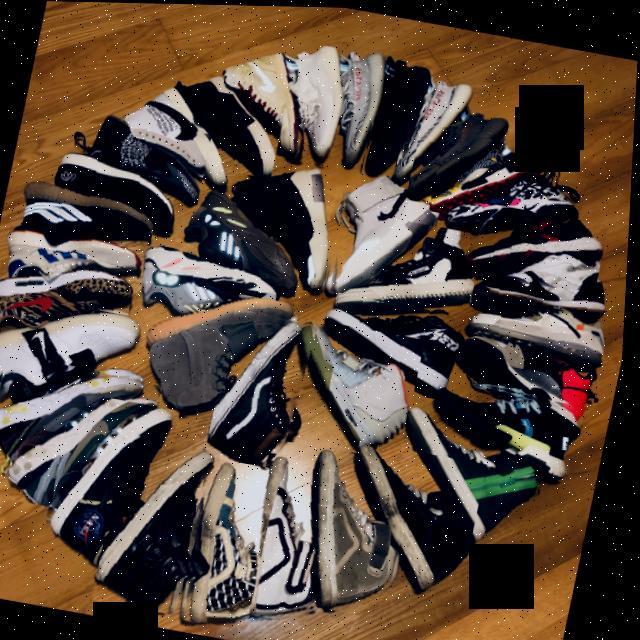shoe: (0, 351, 169, 522), (41, 391, 185, 589), (387, 402, 561, 559), (135, 278, 304, 433), (336, 439, 493, 599), (289, 445, 426, 619), (98, 433, 226, 617), (283, 317, 429, 461), (216, 146, 354, 293), (241, 451, 354, 627), (443, 326, 610, 442), (208, 306, 323, 474), (0, 292, 152, 419), (333, 210, 488, 332), (180, 455, 286, 631), (427, 375, 593, 482), (323, 164, 448, 306), (316, 289, 472, 400), (178, 183, 317, 296), (114, 78, 249, 192), (156, 65, 291, 178), (0, 252, 141, 356), (463, 199, 612, 297), (68, 107, 215, 205), (137, 239, 290, 332), (208, 40, 326, 159), (462, 288, 622, 374), (448, 153, 592, 247), (407, 96, 516, 213), (49, 147, 188, 238), (430, 128, 551, 228), (0, 224, 149, 302), (267, 38, 356, 167), (474, 243, 616, 323), (15, 178, 162, 255), (393, 68, 479, 195), (361, 53, 438, 185), (318, 41, 393, 173)
